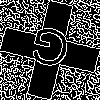G: (25, 25, 73, 79)
